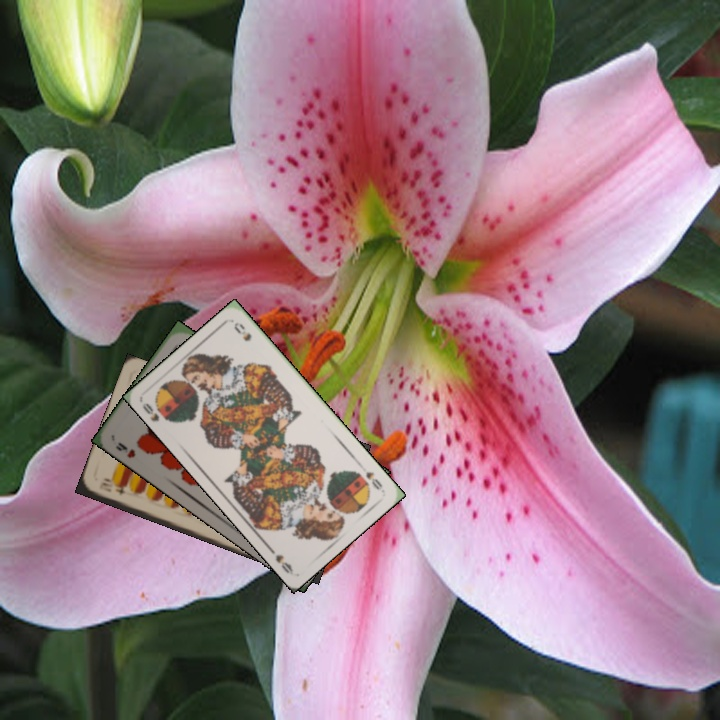E10: (95, 478, 128, 498)
H9: (112, 438, 138, 461)
SO: (138, 399, 174, 425), (361, 467, 385, 492)
